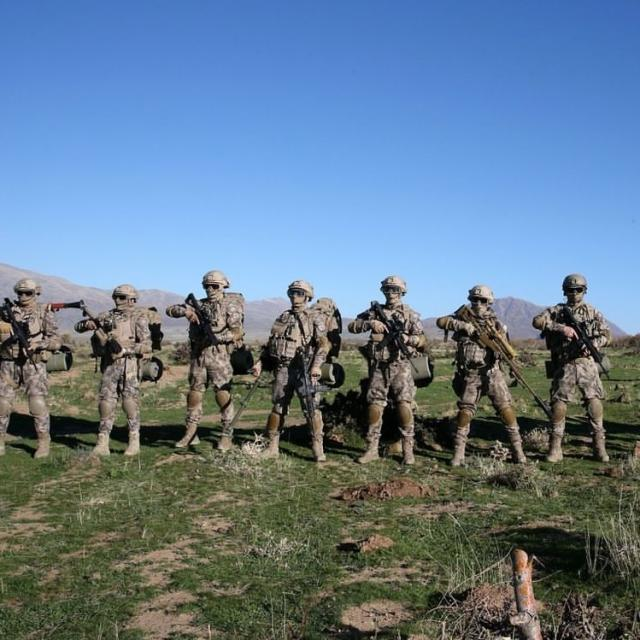poh_personel: (436, 284, 527, 466), (347, 275, 425, 465), (533, 274, 610, 461), (167, 270, 244, 450), (254, 280, 329, 462), (74, 284, 152, 455), (0, 278, 62, 458)
